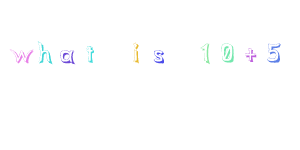+: (243, 46, 257, 63)
0: (219, 41, 236, 63)
1: (198, 42, 212, 65)
5: (265, 41, 282, 63)
a: (58, 47, 76, 64)
h: (37, 40, 53, 64)
i: (129, 41, 143, 64)
s: (151, 48, 166, 64)
t: (84, 44, 95, 64)
w: (9, 47, 34, 65)
